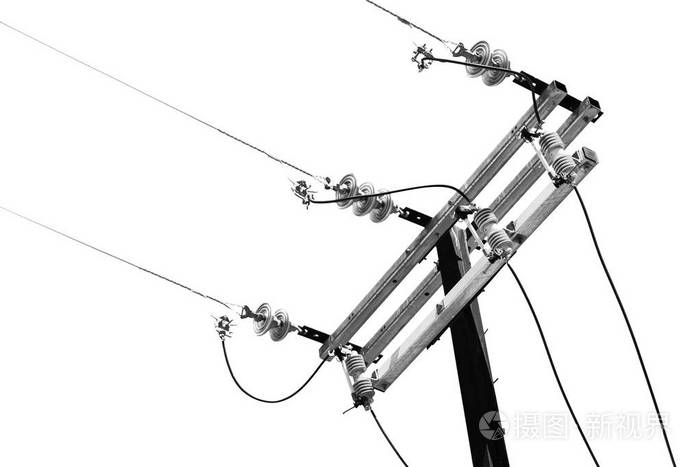insulator: (336, 171, 392, 222), (465, 39, 508, 90), (252, 301, 294, 340)
